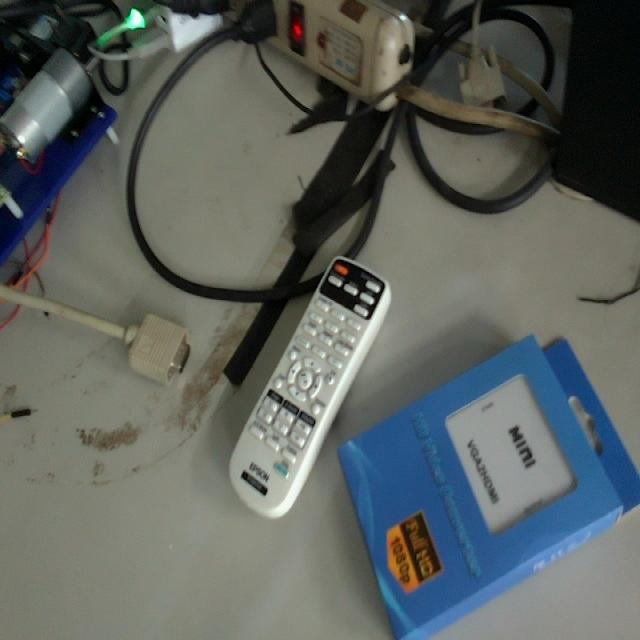remote: (342, 330, 639, 640), (232, 252, 392, 522)
